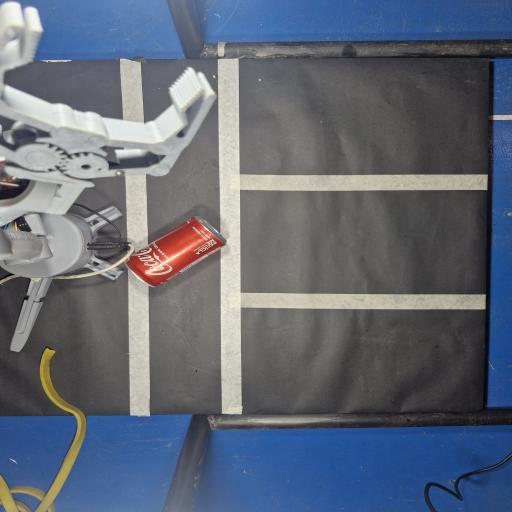lata: (126, 217, 226, 286)
